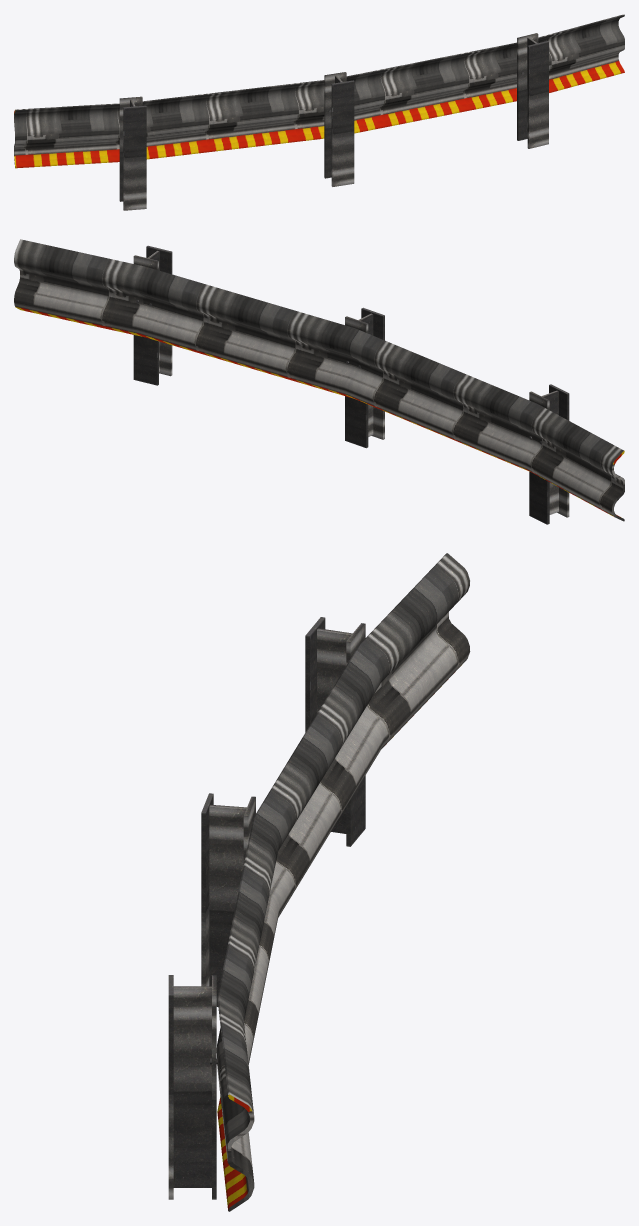
The model's file is Rail 19.FBX.
3 renders of one model, top to bottom at view 1: azimuth 30°, elevation 25°; view 2: azimuth 150°, elevation 25°; view 3: azimuth 270°, elevation 25°, orthographic. The views are drawn at different scales.
Visible parts, largest first — view 1: guardrail_small_30deg_in; view 2: guardrail_small_30deg_in; view 3: guardrail_small_30deg_in.
Boxes of the visible parts, box(x1,y1,x2,y2) form: guardrail_small_30deg_in: box(14, 14, 624, 210); guardrail_small_30deg_in: box(14, 239, 624, 524); guardrail_small_30deg_in: box(168, 553, 470, 1211).
Bounding box in the file's own units: 572 × 101 × 134.
